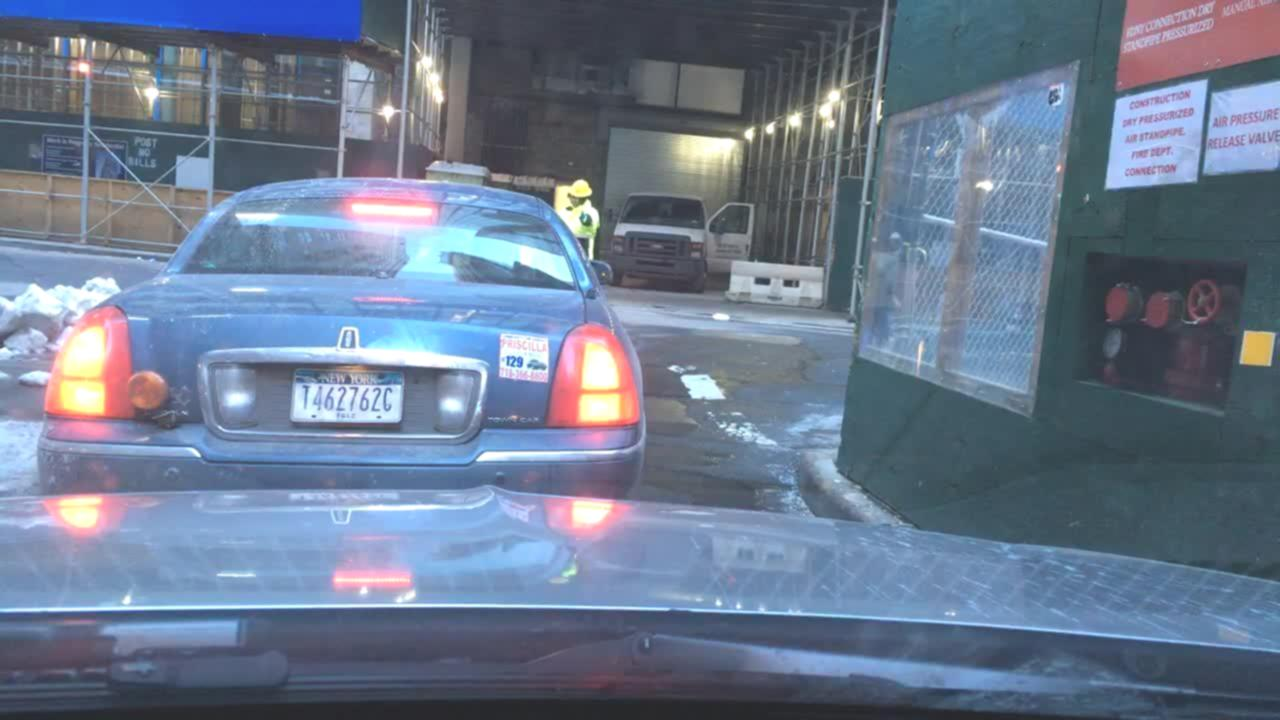lincoln: (336, 326, 364, 356)
